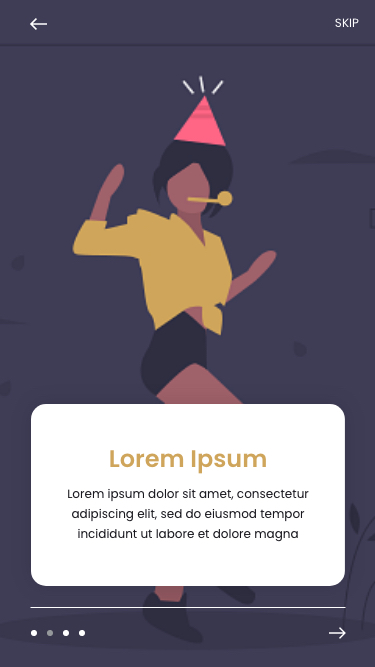BackgroundImage: (1, 1, 375, 667)
Card: (31, 404, 345, 587)
Icon: (30, 18, 49, 32), (329, 626, 346, 640)
PageIndicator: (31, 629, 87, 637)
Text: (68, 488, 310, 542), (110, 449, 267, 474), (334, 18, 360, 29)
